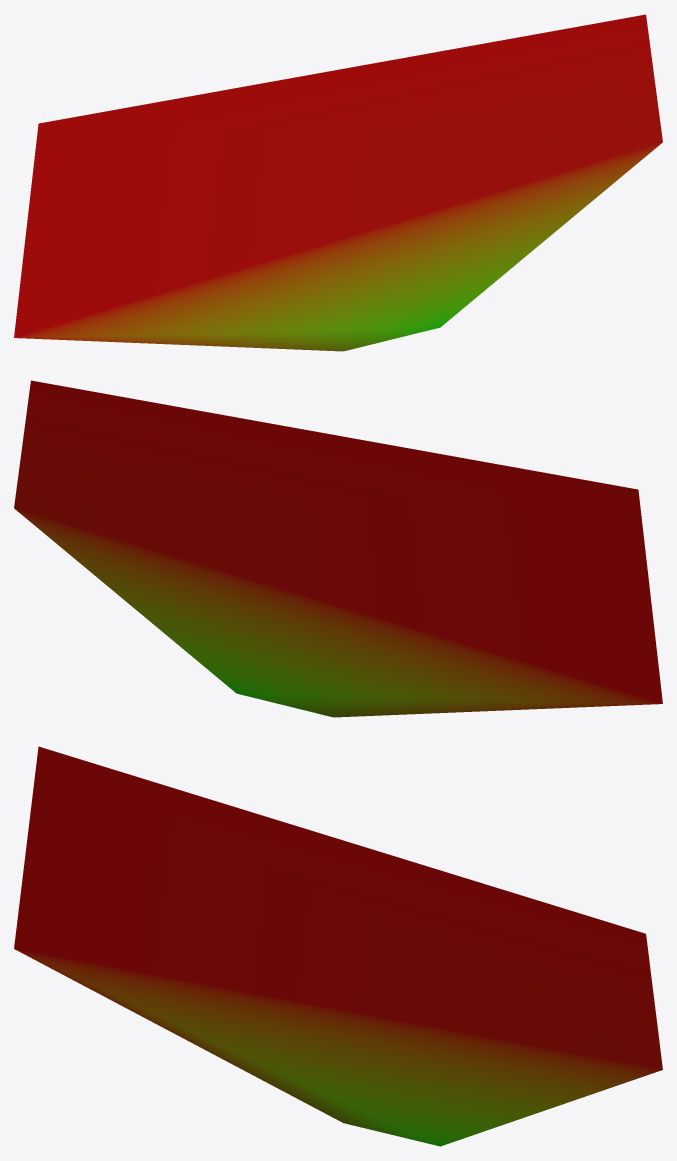
Rendered from Silvery Glade Fern_LOD7_Var10_xf5lebcqx.fbx.
3 views of the same model, one above another, from view 1: azimuth 30°, elevation 25°; view 2: azimuth 150°, elevation 25°; view 3: azimuth 330°, elevation 25° (orthographic).
Visible parts, largest first — view 1: _olpm_Var10_LOD7; view 2: _olpm_Var10_LOD7; view 3: _olpm_Var10_LOD7.
Boxes of the visible parts, bbox=[...] form: _olpm_Var10_LOD7: bbox=[14, 14, 662, 351]; _olpm_Var10_LOD7: bbox=[14, 380, 662, 717]; _olpm_Var10_LOD7: bbox=[14, 746, 662, 1146].
Bounding box in the file's own units: 52.98 × 23.58 × 1.03e-06.
